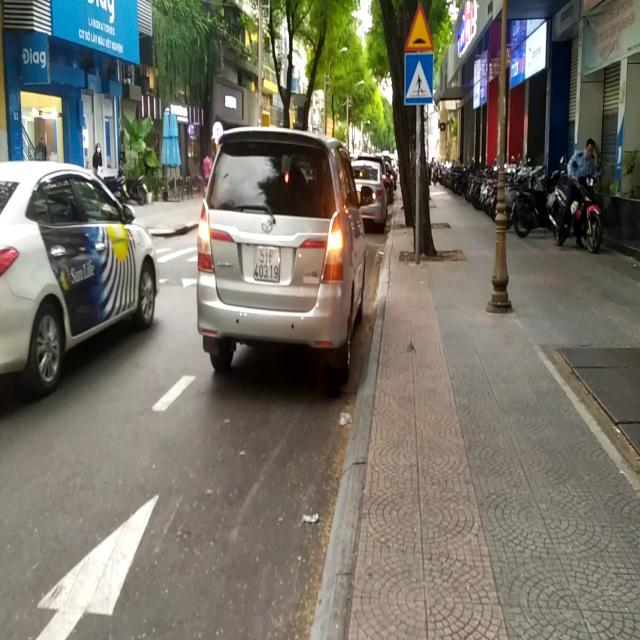bien_trang: (248, 241, 285, 294)
